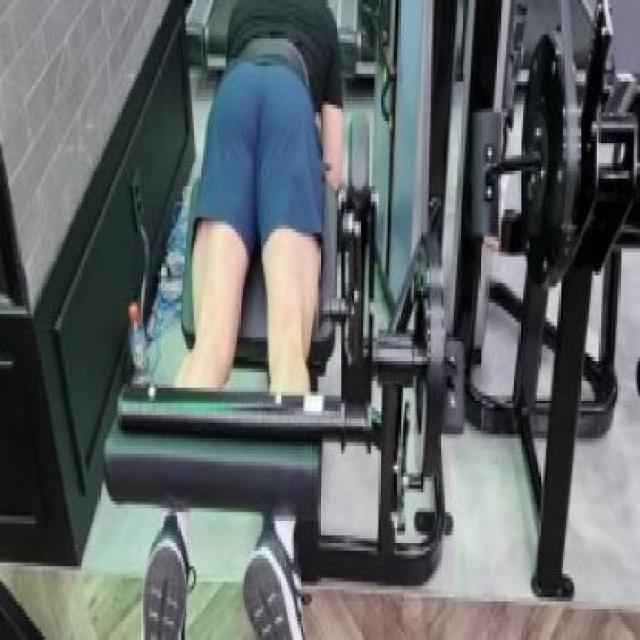reg curl machine: (102, 0, 464, 640)
